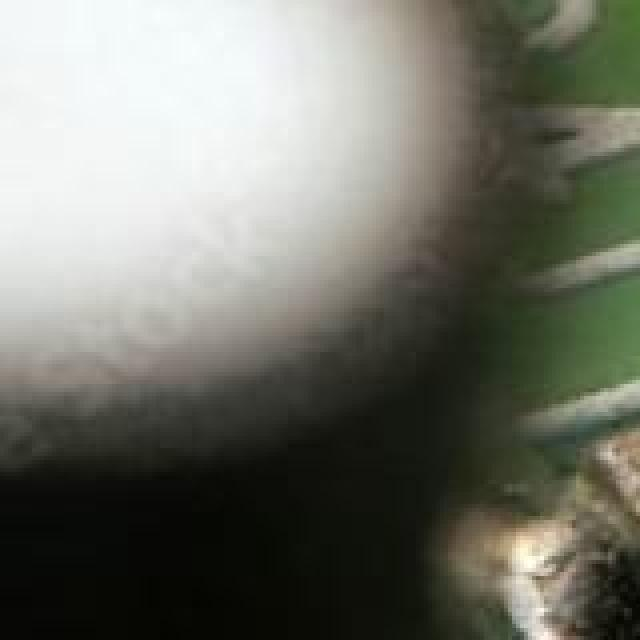capacitor: (512, 368, 640, 612)
clock: (44, 0, 640, 52)
